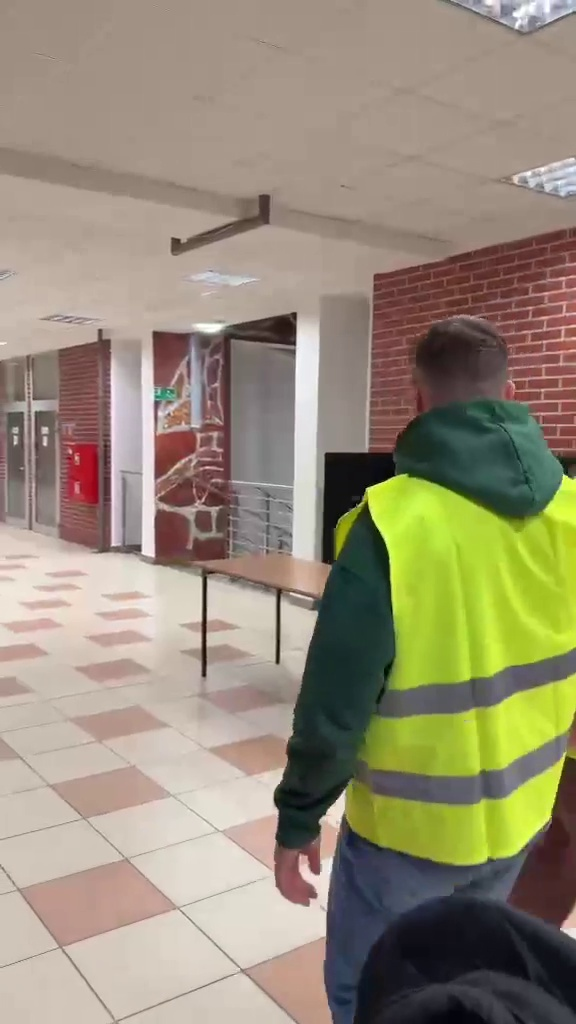vest: (270, 299, 576, 929)
